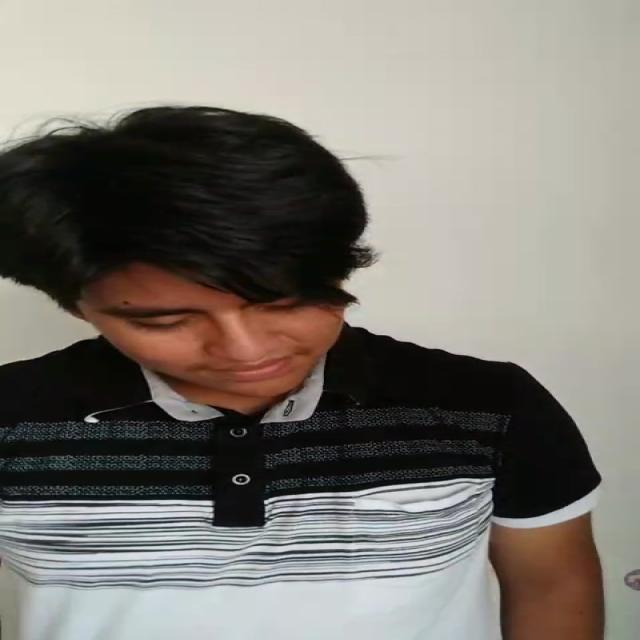9_cabeza_baja: (0, 105, 369, 397)
